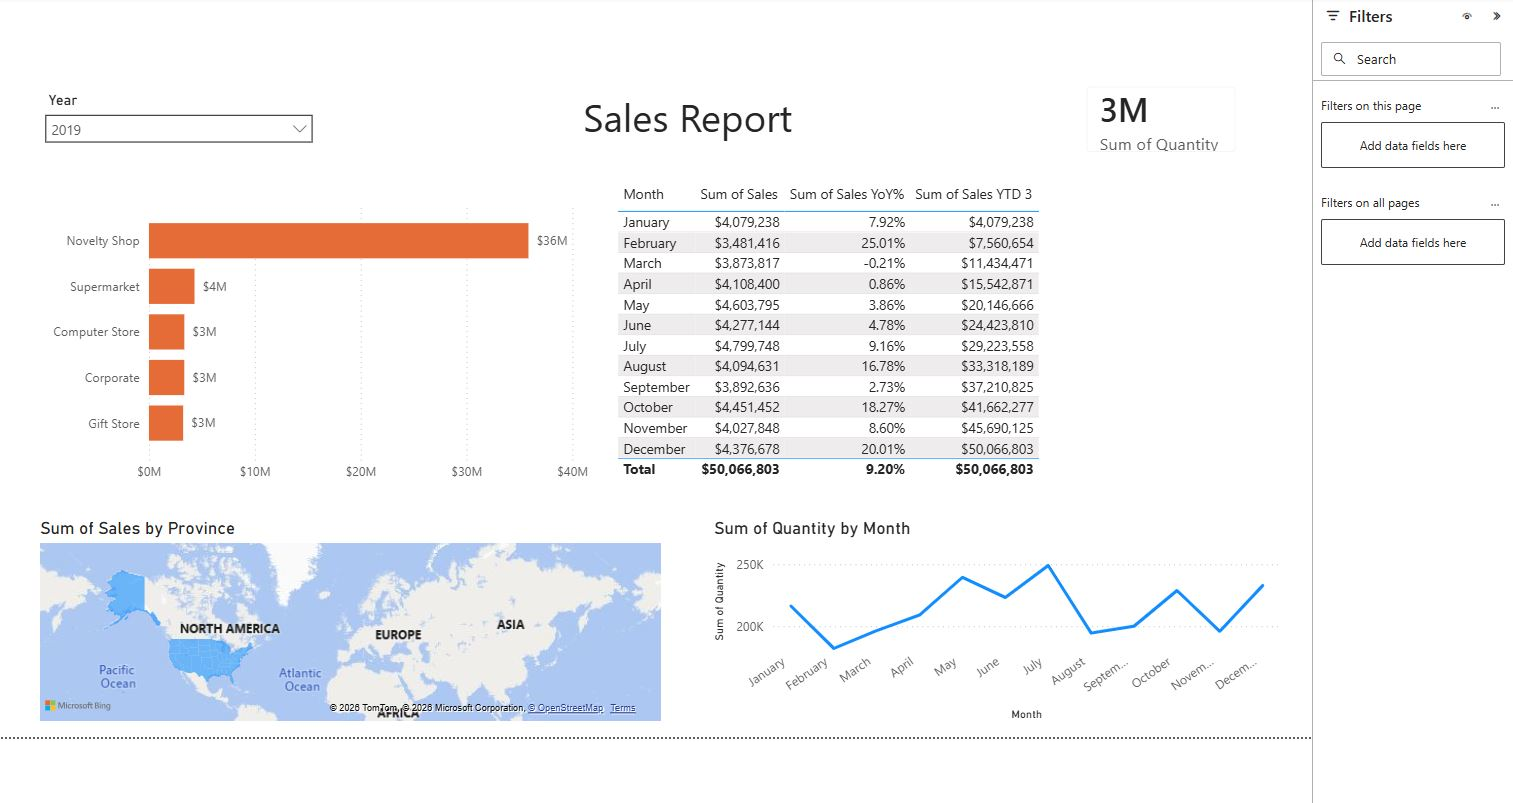

Layout of this report page (visuals, bound fields, positions):
{"tool":"powerbi","page":{"name":"Page 1","canvas":[1280,720],"ordinal":0},"visuals":[{"type":"clusteredBarChart","title":"Sales by Category","fields":{"Category":["MasterCustomer.CustomerCategoryName"],"Y":["Sum(InvoiceData.Sales)"]},"box":[43.8,170.2,547.6,309.3],"z":0},{"type":"slicer","fields":{"Values":["InvoiceData.Date.Variation.Date Hierarchy.Year"]},"box":[37.9,86.6,280.1,131.3],"z":1000},{"type":"tableEx","fields":{"Values":["InvoiceData.Date.Variation.Date Hierarchy.Month","Sum(InvoiceData.Sales)","InvoiceData.Sum of Sales YoY%","InvoiceData.Sum of Sales YTD 3"]},"box":[599.1,175.9,638.5,297.3],"z":2000},{"type":"textbox","box":[566.1,86.6,387.1,66.1],"z":3000},{"type":"filledMap","fields":{"Category":["MasterCustomer.Province"]},"box":[37.9,506.5,614.2,201.7],"z":4000},{"type":"lineChart","fields":{"Y":["Sum(InvoiceData.Quantity)"],"Category":["InvoiceData.Date.Variation.Date Hierarchy.Month"]},"box":[693.5,506.7,560.2,201.3],"z":4001},{"type":"cardVisual","fields":{"Data":["Sum(InvoiceData.Quantity)"]},"box":[1043.6,70,179.9,98.2],"z":4002}]}

Visuals, with their boxes on the page's 1280x720 design canvas (x1, y1, x2, y2). These are canvas units, not pixel positions in the 1513x803 screenshot, which may show the page scaled, cropped or inside an application window:
"Sales by Category" clusteredBarChart: Rect(44, 170, 591, 480)
slicer - InvoiceData.Date.Variation.Date Hierarchy.Year: Rect(38, 87, 318, 218)
tableEx - InvoiceData.Date.Variation.Date Hierarchy.Month x Sum(InvoiceData.Sales): Rect(599, 176, 1238, 473)
textbox: Rect(566, 87, 953, 153)
filledMap - MasterCustomer.Province: Rect(38, 506, 652, 708)
lineChart - Sum(InvoiceData.Quantity) x InvoiceData.Date.Variation.Date Hierarchy.Month: Rect(694, 507, 1254, 708)
cardVisual - Sum(InvoiceData.Quantity): Rect(1044, 70, 1224, 168)
